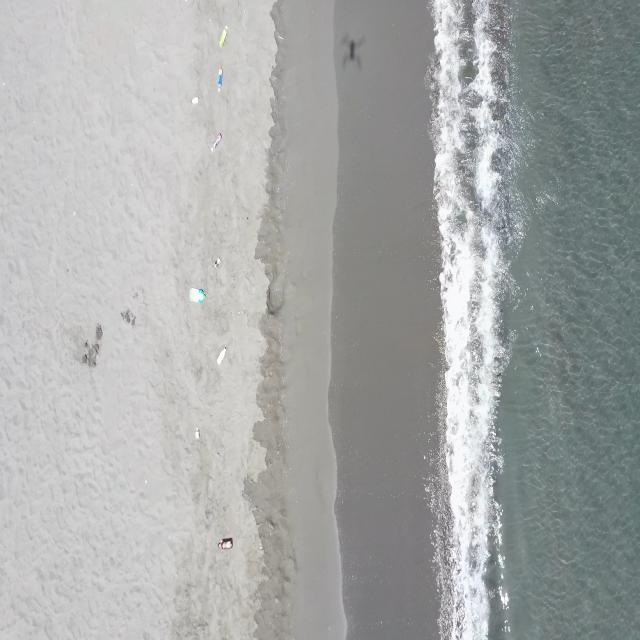Garbage: (189, 287, 206, 300), (216, 65, 223, 91), (216, 346, 226, 364), (220, 24, 227, 47), (212, 131, 220, 151), (218, 537, 232, 547)
